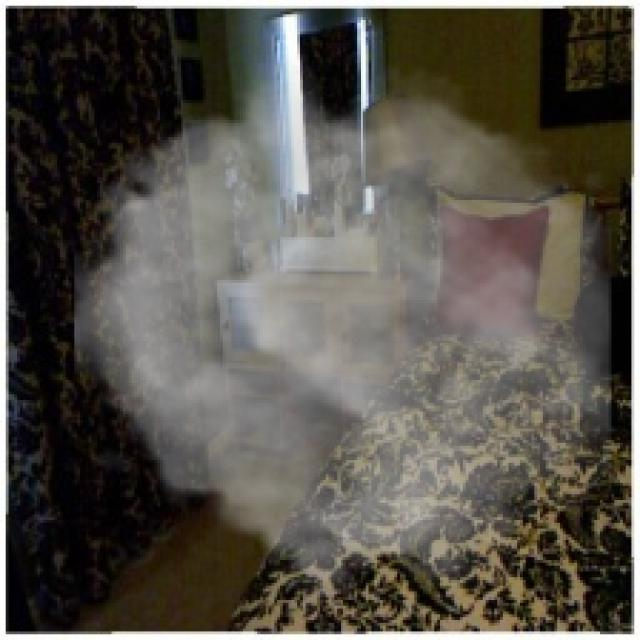smoke: (74, 54, 612, 609)
